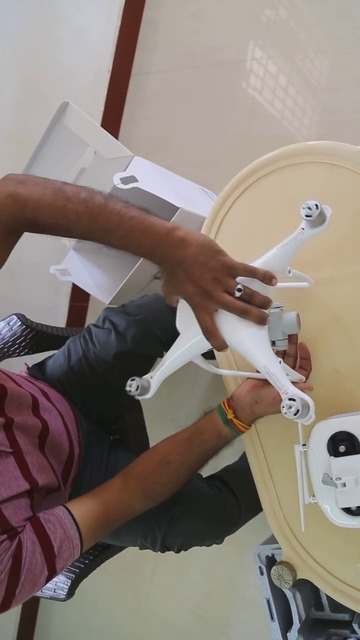drone: (125, 198, 333, 426)
